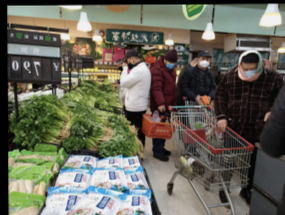with_mask: (240, 64, 260, 81), (198, 55, 210, 69), (165, 59, 177, 70), (125, 59, 134, 70), (116, 62, 123, 72)
